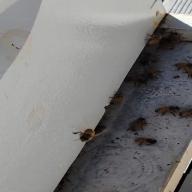Bee: (128, 135, 172, 149), (155, 102, 191, 116), (74, 126, 101, 144)
